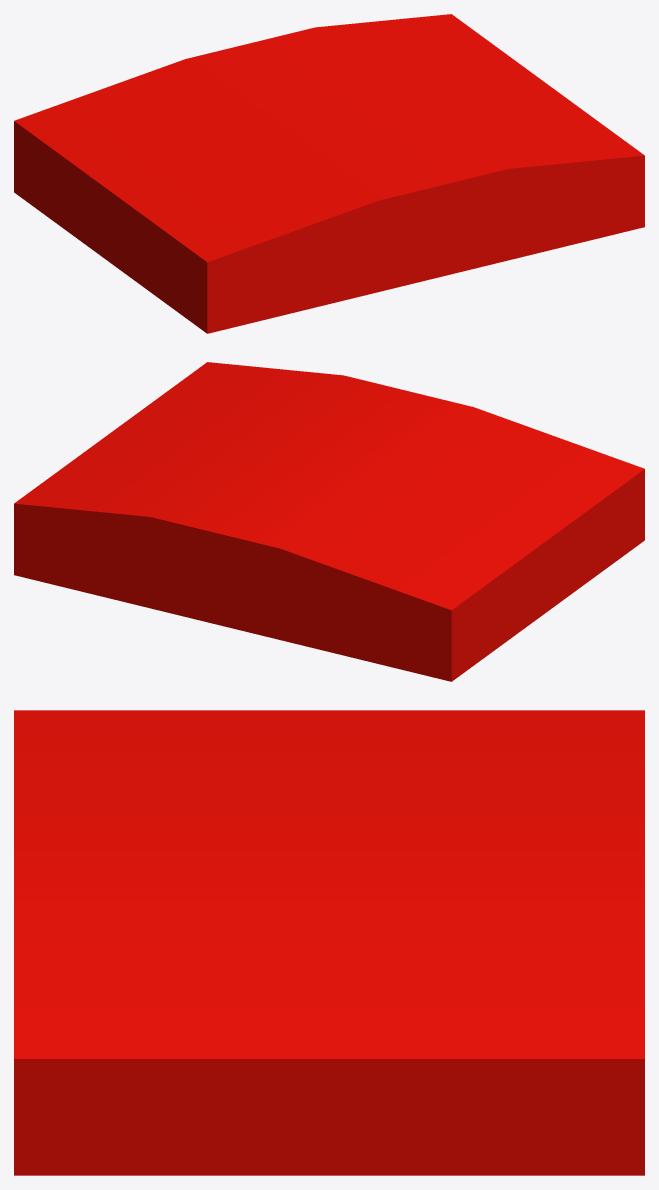
File: SC_Trolley2.FBX
The picture shows the model from 3 angles, top to bottom: view 1: azimuth 30°, elevation 25°; view 2: azimuth 150°, elevation 25°; view 3: azimuth 270°, elevation 25°; orthographic projection. The views are drawn at different scales.
Parts seen in each view (by area): view 1: Box001; view 2: Box001; view 3: Box001.
Boxes of the visible parts, bbox=[...] form: Box001: bbox=[14, 14, 644, 333]; Box001: bbox=[14, 362, 644, 681]; Box001: bbox=[14, 710, 644, 1175].
Bounding box in the file's own units: 834 × 166 × 638.
